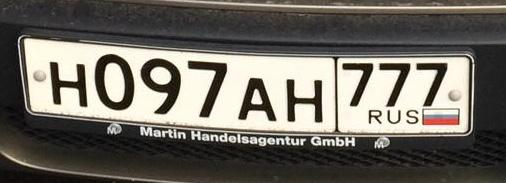license-plateSW: (18, 38, 479, 132)
